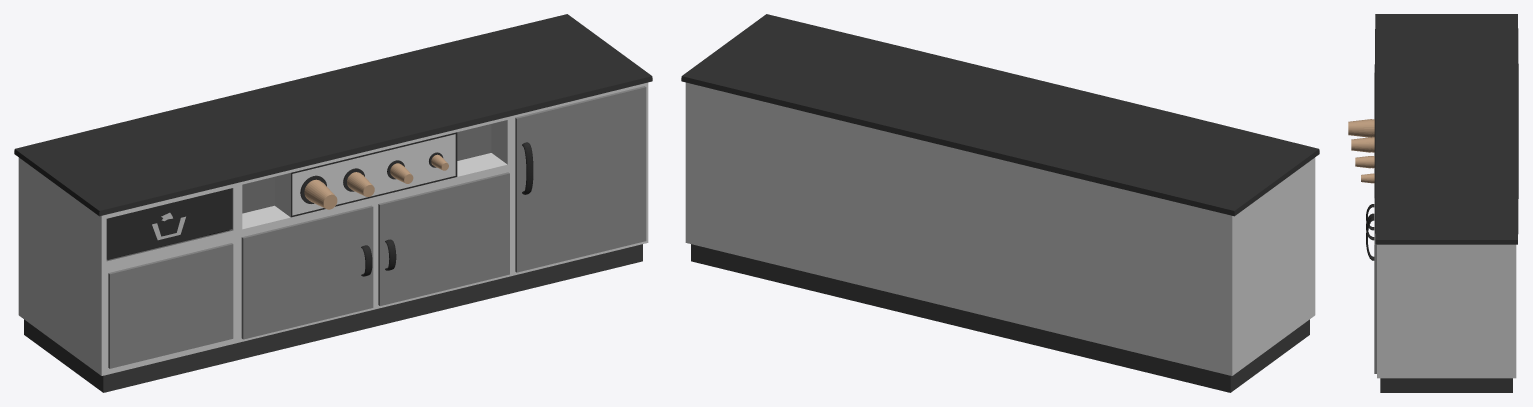
File: Slushie Counter Grey.fbx
3 views of the same model, side by side, from view 1: azimuth 30°, elevation 25°; view 2: azimuth 150°, elevation 25°; view 3: azimuth 270°, elevation 25° (orthographic). The views are drawn at different scales.
Visible parts, largest first — view 1: Slushie Counter Grey; view 2: Slushie Counter Grey; view 3: Slushie Counter Grey.
Boxes of the visible parts, <box> form: Slushie Counter Grey: <box>14,14,652,392</box>; Slushie Counter Grey: <box>681,14,1319,392</box>; Slushie Counter Grey: <box>1348,14,1518,392</box>.
Size of the model in its own units: 308 by 98.83 by 97.82.
Materials: 1 (1 with a texture image).
